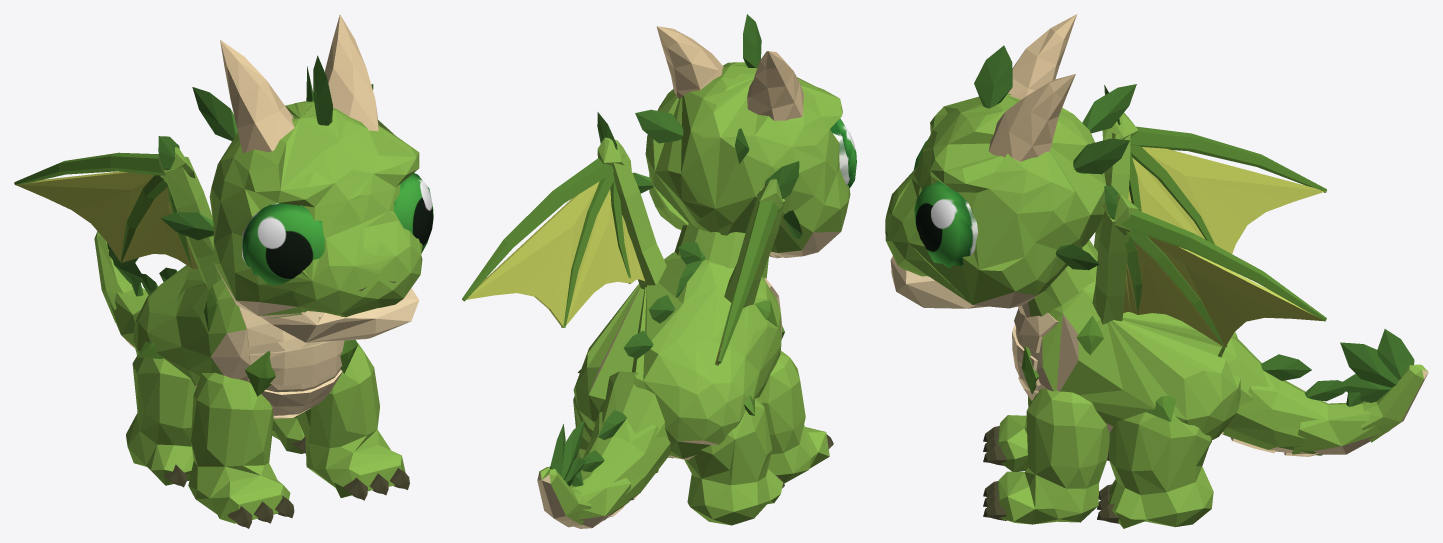
Rendered from meadow_baby.glb.
The picture shows the model from 3 angles, left to right: view 1: azimuth 30°, elevation 25°; view 2: azimuth 150°, elevation 25°; view 3: azimuth 270°, elevation 25°; orthographic projection. The views are drawn at different scales.
Parts seen in each view (by area): view 1: head, body, wing_R_tip, leg_FR, leg_FL, leg_BR, jaw, wing_R, tail_4, tail_3, leg_BL; view 2: head, body, wing_L_tip, leg_BR, leg_FR, tail_2, wing_R_tip, tail_4, wing_L, tail_1, neck, tail_3 (+2 smaller); view 3: head, body, wing_L_tip, wing_R_tip, leg_FL, leg_BL, tail_2, tail_4, tail_3, wing_L, tail_1, leg_FR (+3 smaller).
Part boxes in pixels (bbox=[...]): head: bbox=[160, 14, 433, 318]; body: bbox=[133, 265, 358, 418]; wing_R_tip: bbox=[14, 136, 198, 268]; leg_FR: bbox=[188, 372, 294, 528]; leg_FL: bbox=[297, 342, 409, 500]; leg_BR: bbox=[126, 341, 196, 487]; jaw: bbox=[262, 288, 419, 342]; wing_R: bbox=[164, 156, 221, 289]; tail_4: bbox=[94, 231, 144, 322]; tail_3: bbox=[109, 277, 148, 347]; leg_BL: bbox=[272, 416, 305, 453]; head: bbox=[632, 14, 856, 257]; body: bbox=[573, 241, 784, 459]; wing_L_tip: bbox=[462, 112, 636, 327]; leg_BR: bbox=[684, 395, 784, 525]; leg_FR: bbox=[759, 350, 833, 483]; tail_2: bbox=[581, 412, 670, 520]; wing_R_tip: bbox=[715, 161, 799, 365]; tail_4: bbox=[537, 420, 591, 527]; wing_L: bbox=[612, 154, 666, 289]; tail_1: bbox=[598, 371, 669, 441]; neck: bbox=[674, 223, 768, 297]; tail_3: bbox=[563, 471, 631, 528]; head: bbox=[885, 14, 1136, 308]; body: bbox=[1012, 279, 1240, 440]; wing_L_tip: bbox=[1102, 185, 1326, 347]; wing_R_tip: bbox=[1102, 85, 1326, 253]; leg_FL: bbox=[983, 388, 1109, 524]; leg_BL: bbox=[1097, 396, 1213, 528]; tail_2: bbox=[1223, 370, 1348, 456]; tail_4: bbox=[1340, 329, 1428, 442]; tail_3: bbox=[1292, 392, 1391, 454]; wing_L: bbox=[1092, 210, 1130, 324]; tail_1: bbox=[1218, 337, 1311, 434]; leg_FR: bbox=[983, 396, 1031, 471].
Bounding box in the file's own units: 2.09 × 3.3 × 3.67.
Materials: 9 (1 with a texture image).
